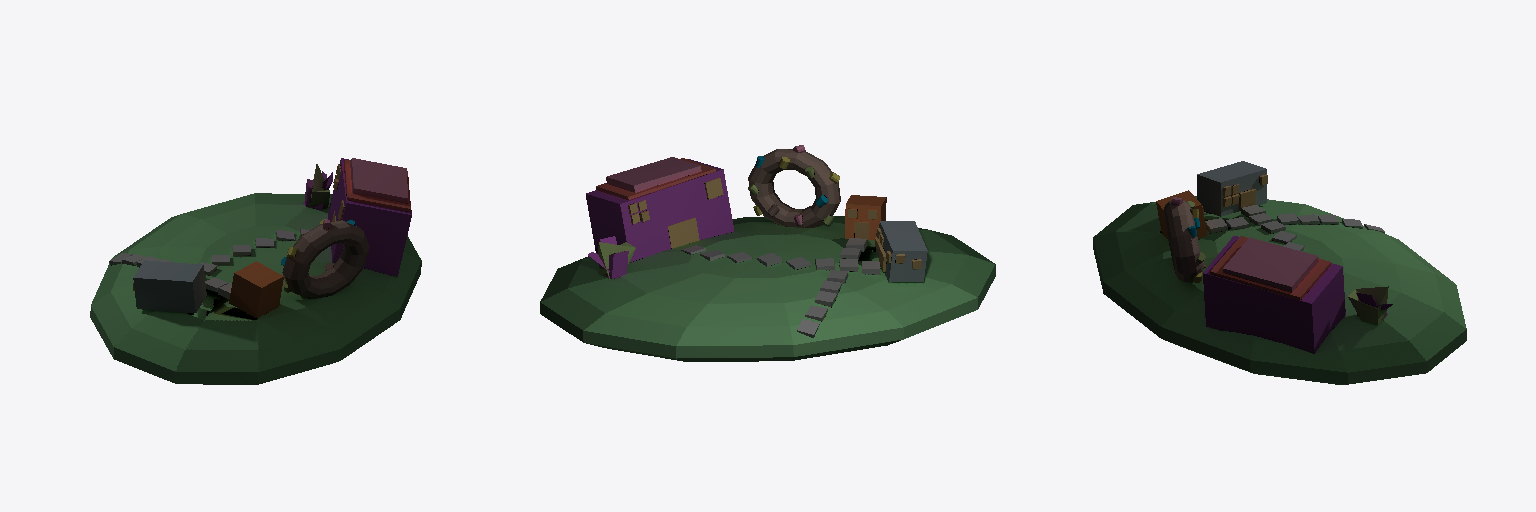
3 renders of one model, left to right at view 1: azimuth 30°, elevation 25°; view 2: azimuth 150°, elevation 25°; view 3: azimuth 270°, elevation 25°, orthographic.
Parts seen in each view (by area): view 1: model; view 2: model; view 3: model.
Boxes of the visible parts, x1,y1,x2,y2 form: model: [90, 158, 421, 384]; model: [540, 145, 995, 361]; model: [1093, 161, 1466, 384].
Bounding box in the file's own units: 0.9054 × 0.3327 × 0.8311.
12 materials, 1 textured.